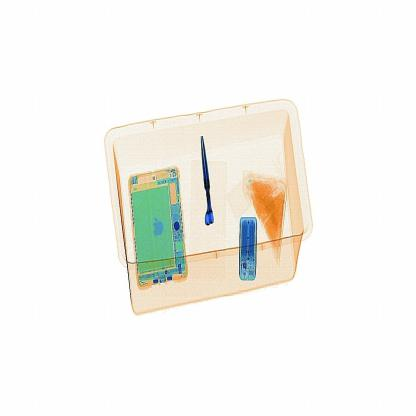gun: (196, 128, 227, 236)
